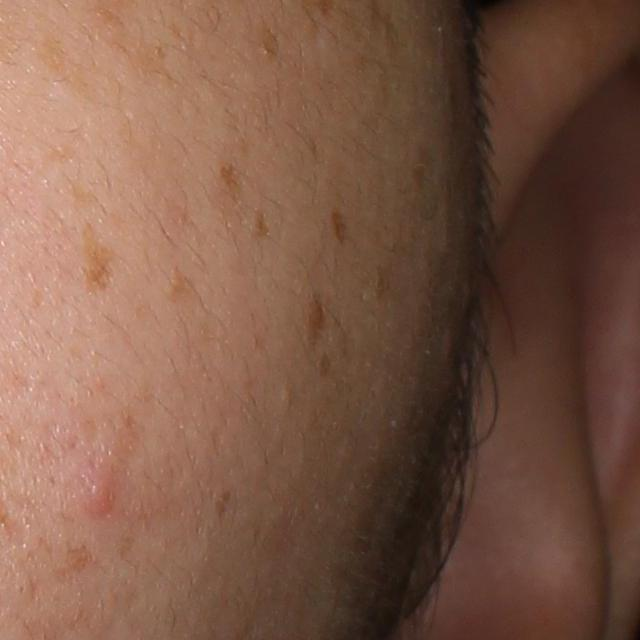comedo: (280, 385, 296, 406)
melasma: (78, 225, 119, 296), (215, 163, 244, 212)
papule: (81, 484, 120, 517)
